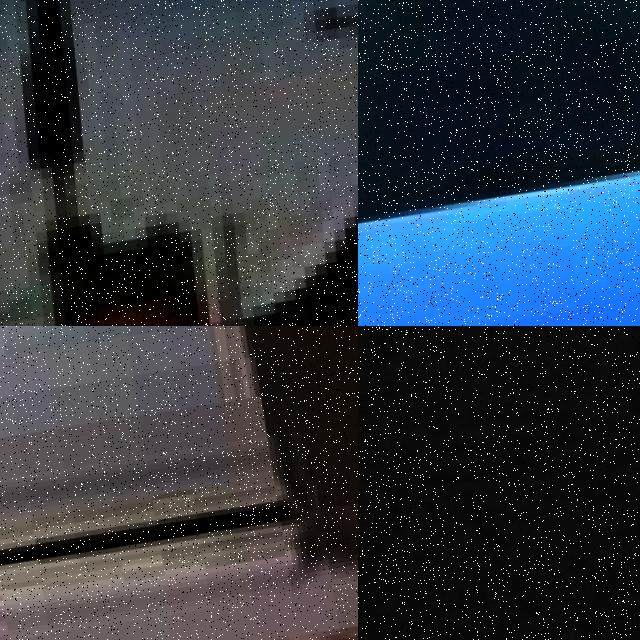drone: (0, 0, 358, 326), (358, 0, 640, 326)
